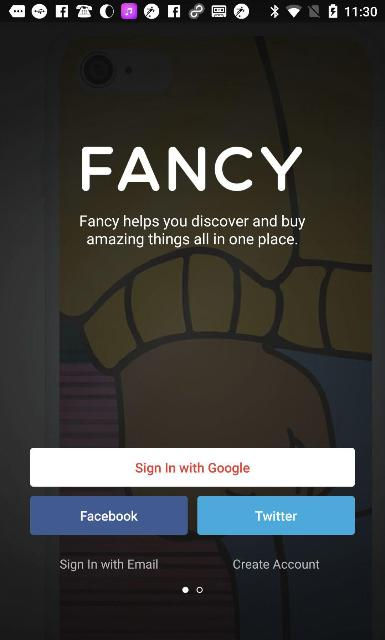BackgroundImage: (0, 22, 384, 640)
PageIndicator: (182, 586, 202, 594)
Text: (82, 146, 302, 192), (80, 215, 306, 248), (136, 462, 250, 476), (60, 558, 158, 572), (232, 558, 320, 570), (80, 511, 137, 521), (255, 511, 297, 521)
TextButton: (30, 448, 354, 487), (30, 496, 188, 534), (198, 496, 354, 534)
UpperTaskBar: (0, 0, 384, 22)
